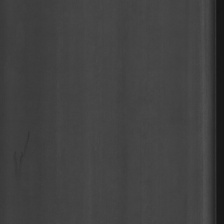water_spot: (8, 128, 37, 179)
